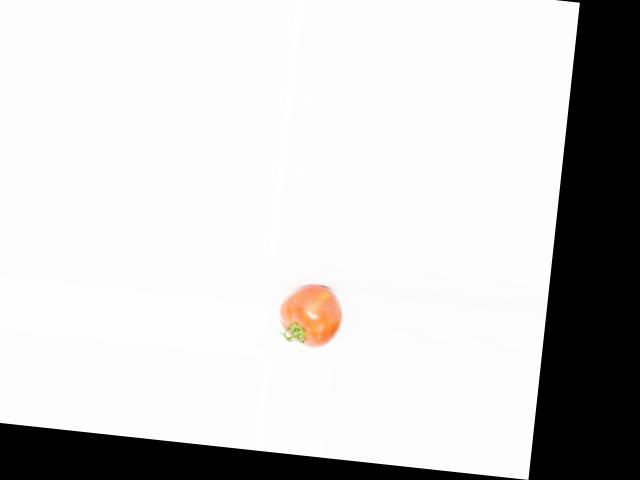tomato: (276, 281, 345, 351)
